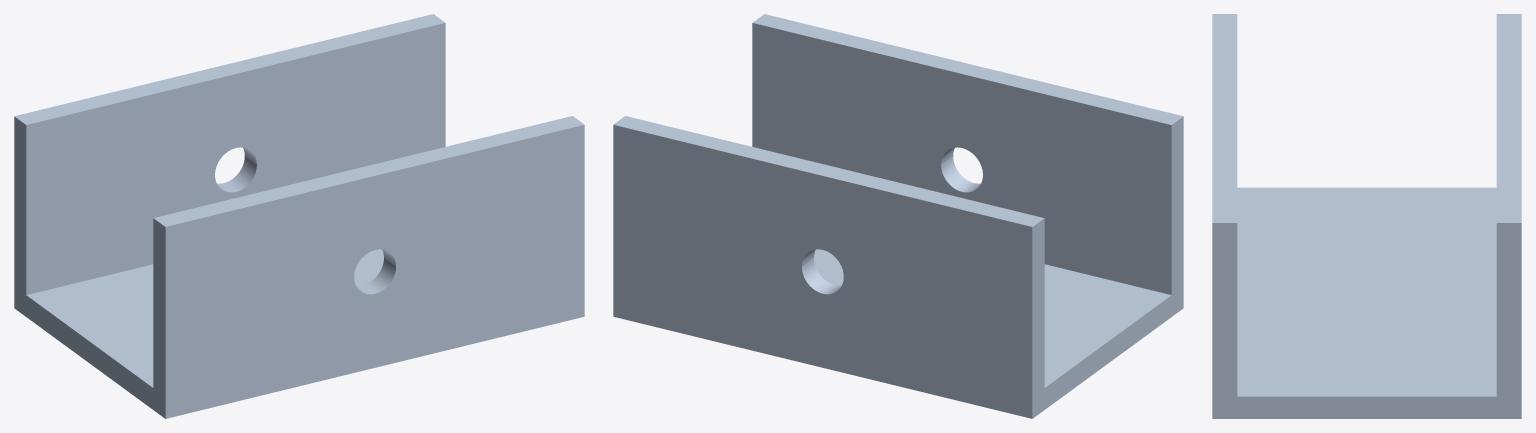
3 views of the same model, side by side, from view 1: azimuth 30°, elevation 25°; view 2: azimuth 150°, elevation 25°; view 3: azimuth 270°, elevation 25° (orthographic). The views are drawn at different scales.
Parts seen in each view (by area): view 1: part; view 2: part; view 3: part.
Boxes of the visible parts, x1=… form: part: x1=14, y1=14, x2=584, y2=418; part: x1=613, y1=14, x2=1183, y2=418; part: x1=1212, y1=14, x2=1521, y2=418.
Bounding box in the file's own units: 80 × 35 × 50.
